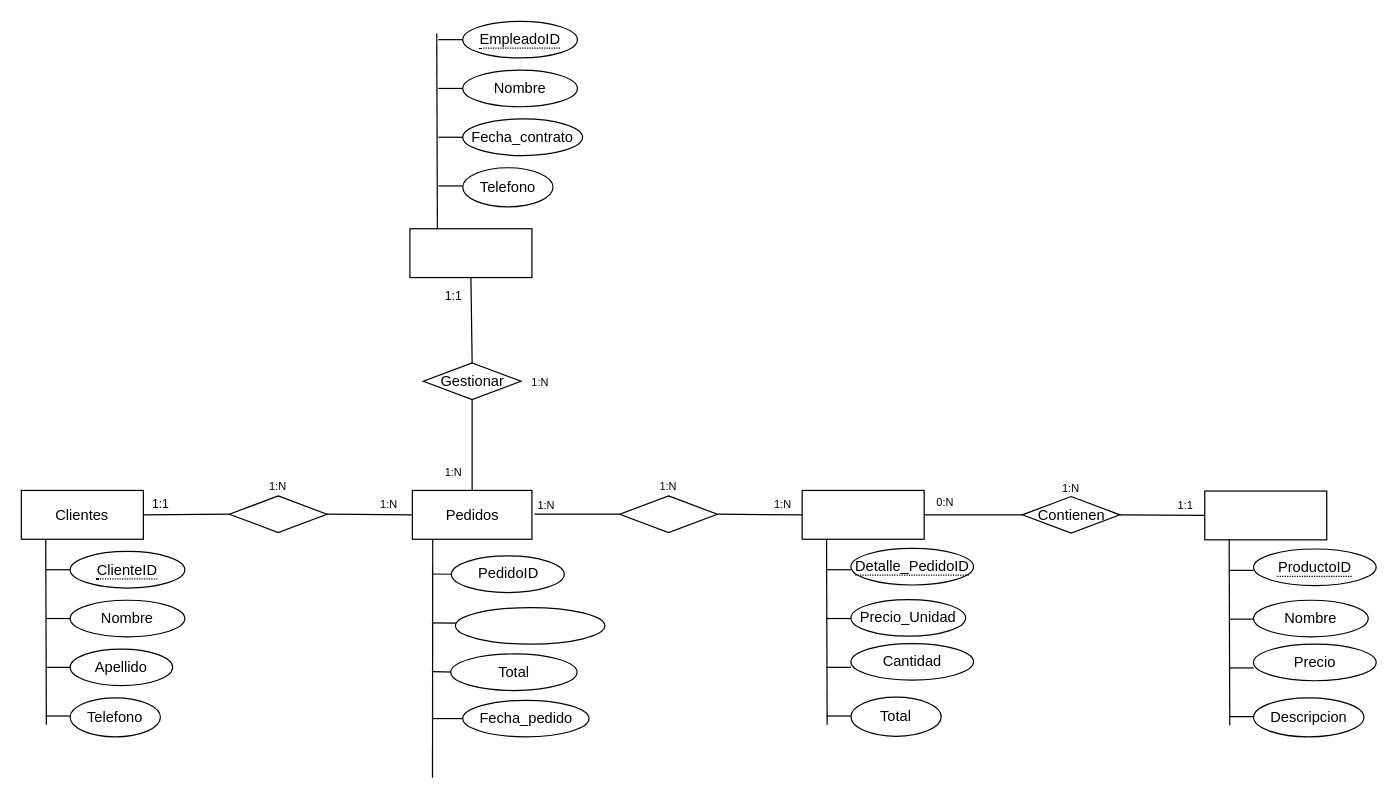
This 1398x800 diagram has some shape labels left out. Here are the shapes that lost their labels. From the top down, the centre of each, then its label:
the point at 470,253: Empleados
the point at 277,514: Realizan
the point at 668,514: Tienen
the point at 862,514: DetallesPedido
the point at 1265,515: Productos
the point at 529,625: Numero_mesa
